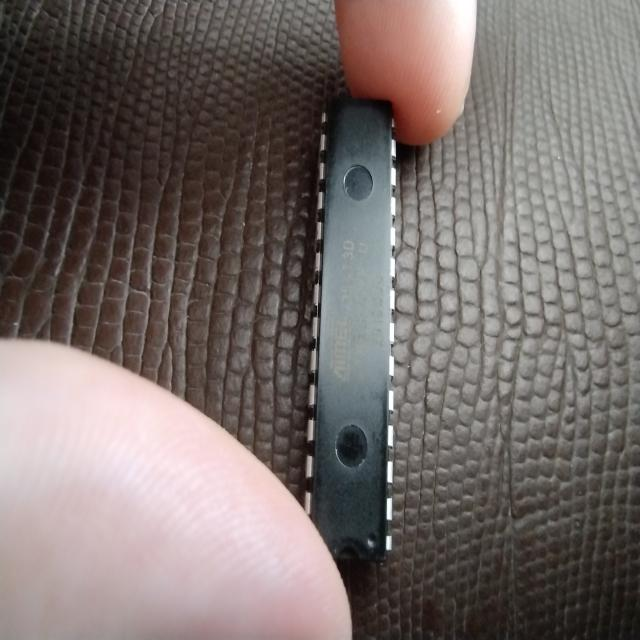atmega: (307, 93, 398, 566)
